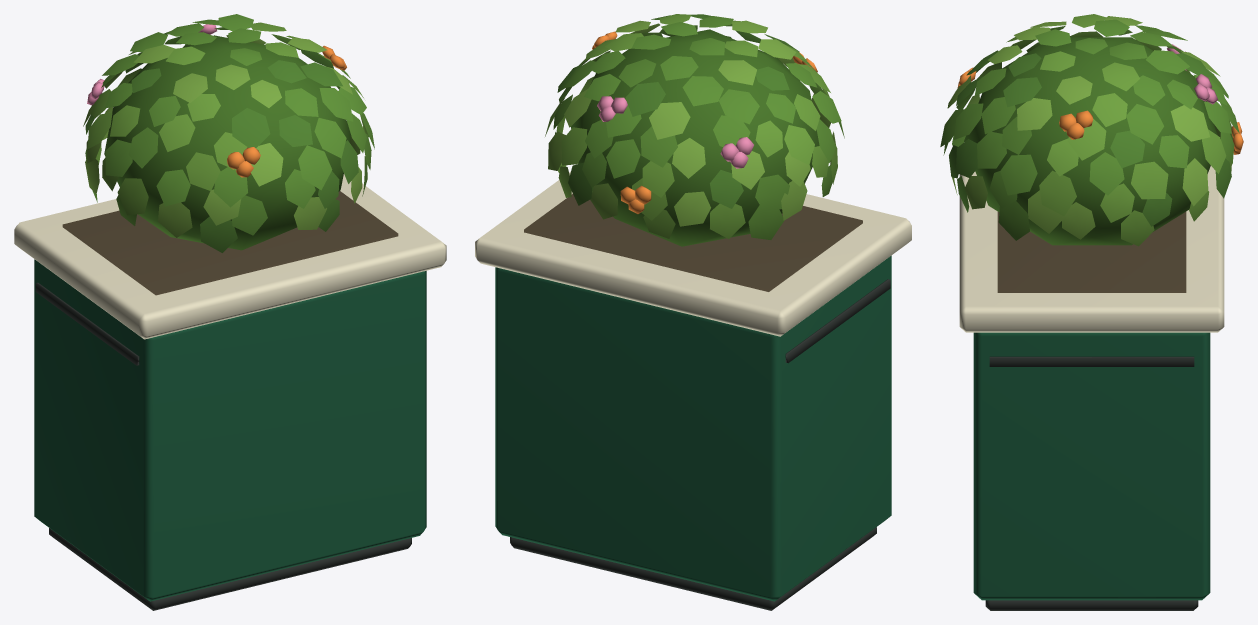
File: deck_planter_short.glb
3 views of the same model, side by side, from view 1: azimuth 30°, elevation 25°; view 2: azimuth 150°, elevation 25°; view 3: azimuth 270°, elevation 25° (orthographic).
Visible parts, largest first — view 1: Box, Cap, Shrub0Core, Soil, Foot, Groove-1, Shrub0Leaf28, Shrub0Leaf57, Shrub0Leaf49, Shrub0Leaf54, Shrub0Leaf83, Shrub0Leaf67 (+24 smaller); view 2: Box, Cap, Shrub0Core, Soil, Foot, Groove-1, Shrub0Leaf27, Shrub0Leaf82, Shrub0Leaf19, Shrub0Leaf22, Shrub0Leaf53, Shrub0Leaf40 (+25 smaller); view 3: Box, Cap, Shrub0Core, Soil, Foot, Groove1, Shrub0Leaf68, Shrub0Leaf60, Shrub0Leaf63, Shrub0Leaf55, Shrub0Leaf29, Shrub0Leaf37 (+36 smaller).
Part boxes in pixels (box(x1,y1,x2,y2)): Box: box(34, 259, 426, 601); Cap: box(14, 174, 446, 339); Shrub0Core: box(104, 35, 351, 250); Soil: box(62, 191, 398, 295); Foot: box(49, 528, 411, 610); Groove-1: box(35, 282, 139, 365); Shrub0Leaf28: box(232, 108, 270, 147); Shrub0Leaf57: box(298, 145, 332, 190); Shrub0Leaf49: box(251, 143, 283, 186); Shrub0Leaf54: box(186, 152, 220, 190); Shrub0Leaf83: box(232, 195, 267, 235); Shrub0Leaf67: box(156, 169, 190, 206); Box: box(495, 255, 891, 601); Cap: box(475, 171, 911, 336); Shrub0Core: box(571, 29, 819, 246); Soil: box(524, 194, 862, 291); Foot: box(510, 527, 876, 610); Groove-1: box(785, 279, 890, 363); Shrub0Leaf27: box(649, 102, 690, 139); Shrub0Leaf82: box(674, 191, 710, 226); Shrub0Leaf19: box(625, 82, 665, 116); Shrub0Leaf22: box(719, 89, 759, 124); Shrub0Leaf53: box(606, 139, 640, 178); Shrub0Leaf40: box(640, 126, 677, 167); Box: box(973, 332, 1210, 600); Cap: box(959, 166, 1224, 332); Shrub0Core: box(964, 37, 1217, 245); Soil: box(997, 212, 1186, 292); Foot: box(985, 600, 1198, 610); Groove1: box(989, 356, 1194, 366); Shrub0Leaf68: box(1039, 170, 1076, 216); Shrub0Leaf60: box(1000, 154, 1037, 195); Shrub0Leaf63: box(1131, 161, 1168, 199); Shrub0Leaf55: box(1089, 152, 1124, 195); Shrub0Leaf29: box(1126, 104, 1163, 144); Shrub0Leaf37: box(1170, 105, 1209, 141).
Size of the model in its own units: 0.4497 by 0.7072 by 0.3796.
